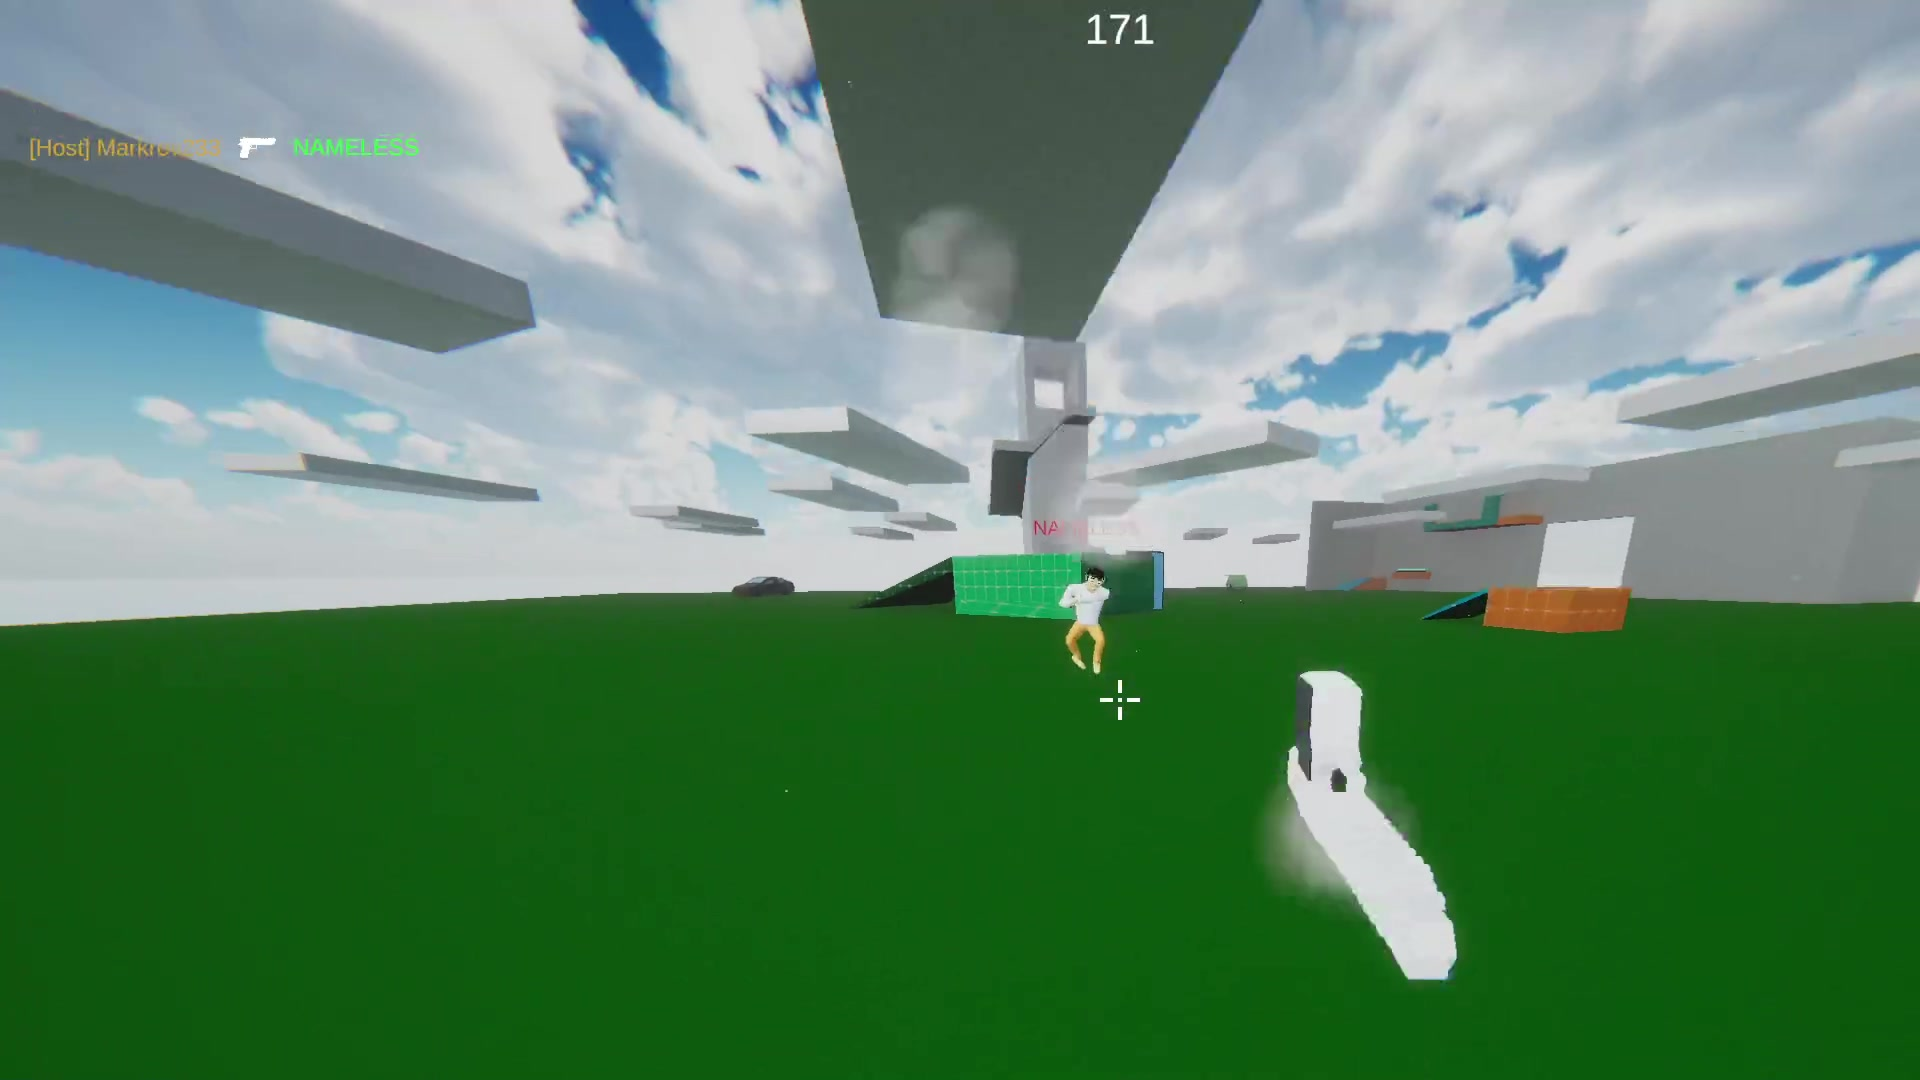human: (1066, 561, 1110, 681)
